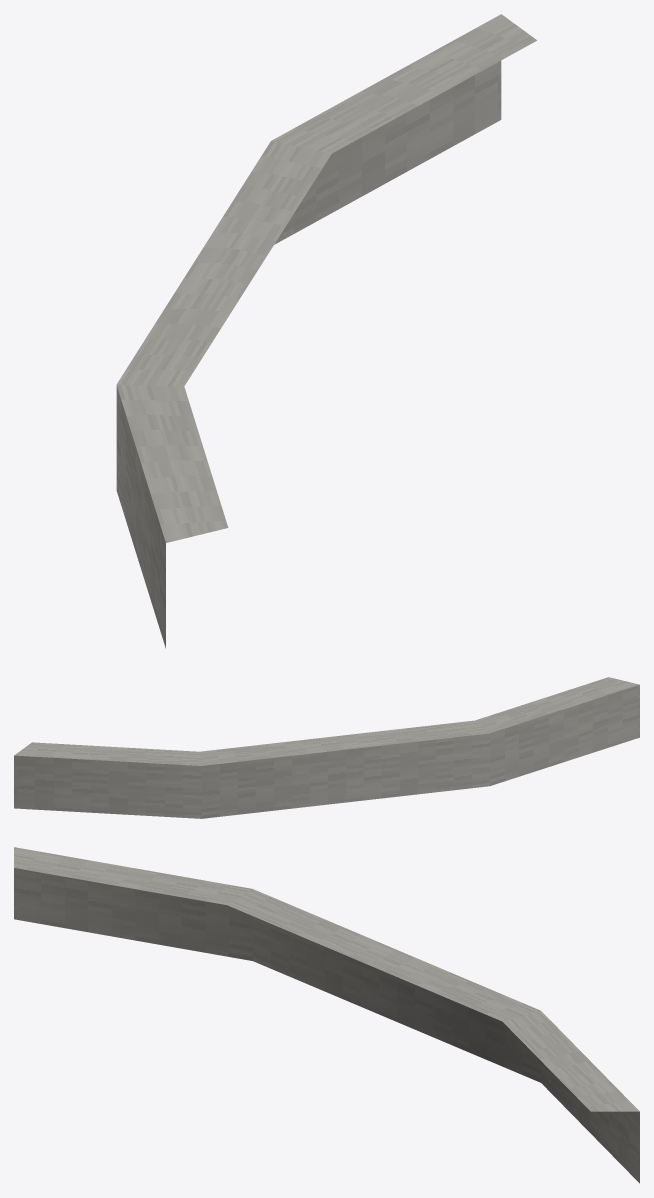
Rendered from tank_small_footing_0_0.obj.
3 views of the same model, one above another, from view 1: azimuth 30°, elevation 25°; view 2: azimuth 150°, elevation 25°; view 3: azimuth 270°, elevation 25° (orthographic). The views are drawn at different scales.
Visible parts, largest first — view 1: tank_small_footing_0_0; view 2: tank_small_footing_0_0; view 3: tank_small_footing_0_0.
Boxes of the visible parts, bbox=[...] form: tank_small_footing_0_0: bbox=[116, 14, 536, 648]; tank_small_footing_0_0: bbox=[14, 677, 639, 818]; tank_small_footing_0_0: bbox=[14, 847, 639, 1183].
Bounding box in the file's own units: 2.75 × 0.35 × 2.75.
